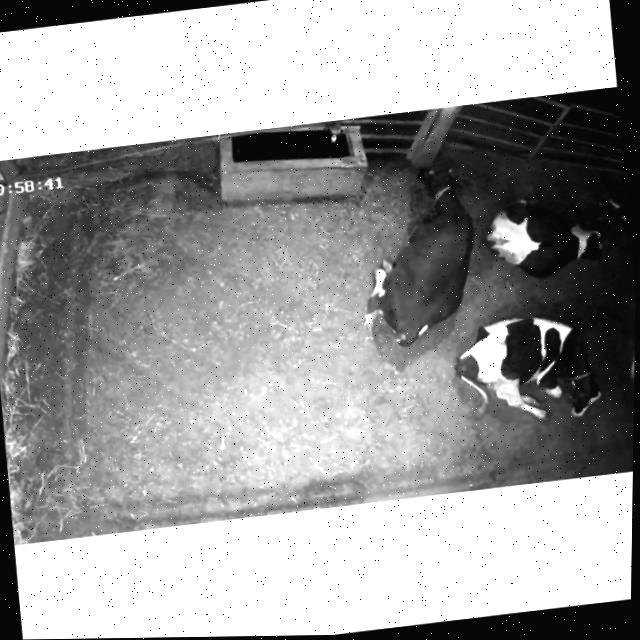lay: (364, 156, 474, 345), (454, 316, 601, 418), (483, 197, 628, 277)
